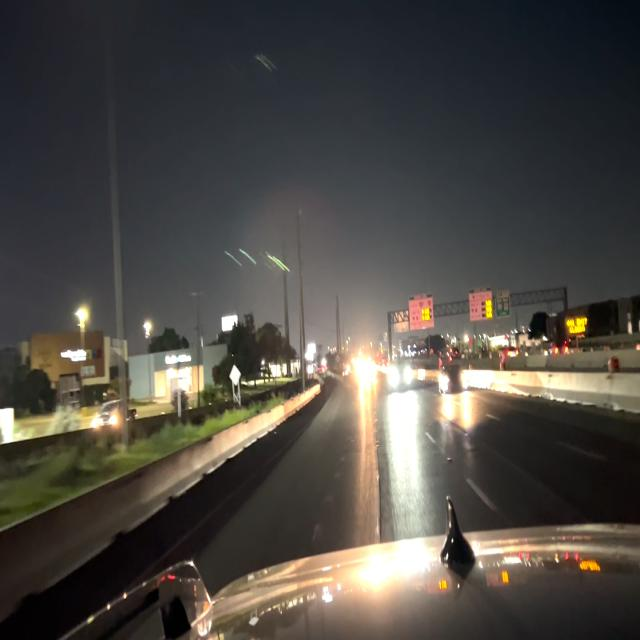back-of-sign: (393, 309, 409, 336)
